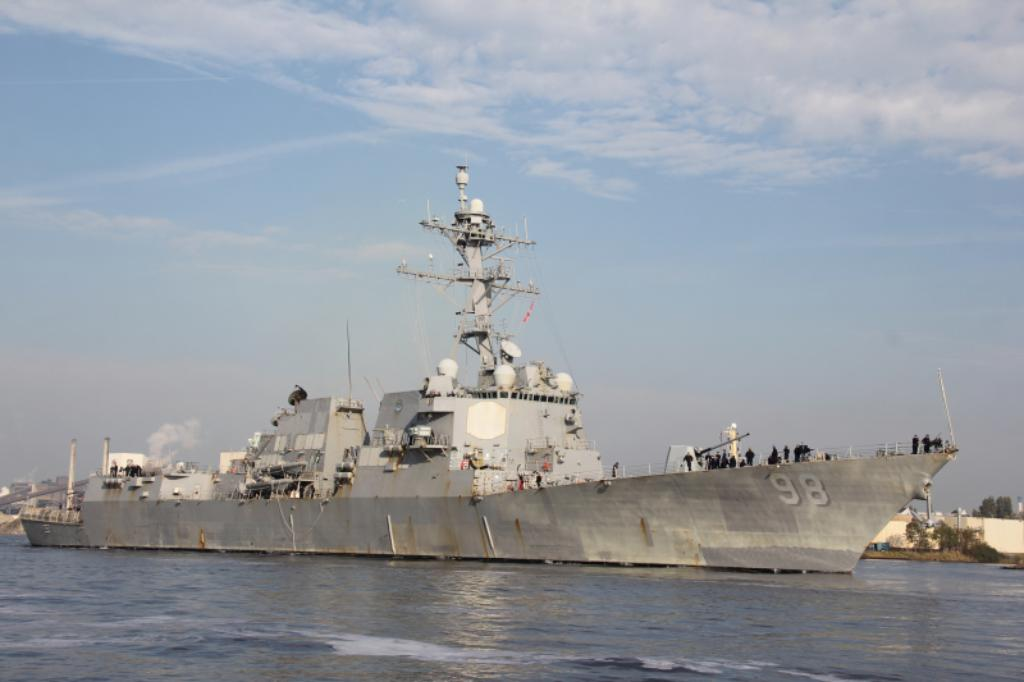Warship: (16, 159, 964, 578)
